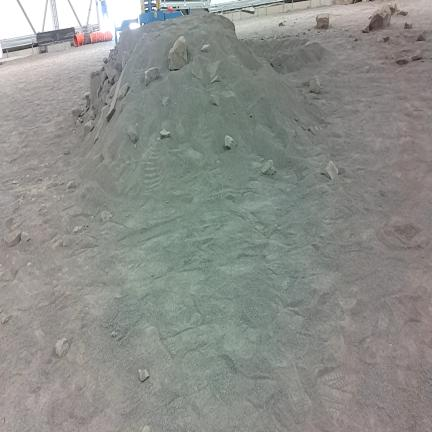Rock: (106, 74, 122, 121), (169, 36, 187, 70), (94, 105, 110, 143), (369, 6, 391, 30), (90, 71, 102, 106), (4, 230, 22, 248), (322, 161, 338, 179), (144, 67, 159, 86), (192, 56, 203, 79), (105, 63, 117, 84), (56, 338, 69, 357), (0, 269, 17, 281), (309, 76, 320, 94), (261, 160, 274, 175), (316, 14, 329, 29), (118, 83, 129, 100), (224, 135, 236, 150), (128, 125, 138, 143), (84, 120, 94, 136), (270, 56, 282, 68), (101, 210, 113, 222), (108, 83, 117, 99), (122, 52, 130, 68), (139, 369, 149, 381), (21, 231, 31, 243), (396, 56, 409, 65), (412, 50, 422, 61), (210, 94, 219, 106), (72, 108, 82, 118), (210, 75, 221, 84), (84, 92, 91, 106), (389, 4, 398, 14), (160, 129, 170, 138), (417, 32, 425, 41), (67, 181, 76, 189), (201, 44, 210, 52), (73, 226, 82, 233), (162, 97, 169, 106), (90, 110, 96, 120), (404, 23, 412, 29), (397, 11, 408, 15), (2, 317, 8, 324), (362, 27, 369, 33), (142, 426, 150, 431), (64, 149, 70, 155), (100, 153, 104, 162), (383, 37, 389, 42), (111, 331, 116, 337), (76, 120, 81, 126), (279, 22, 284, 26), (103, 58, 107, 63), (355, 37, 358, 41)
